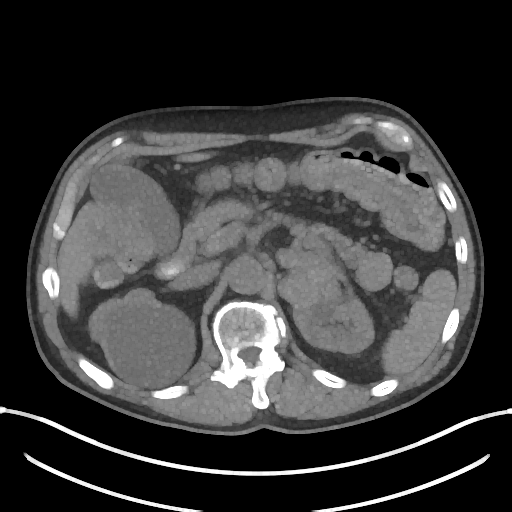Lesion: (98, 300, 197, 391)
